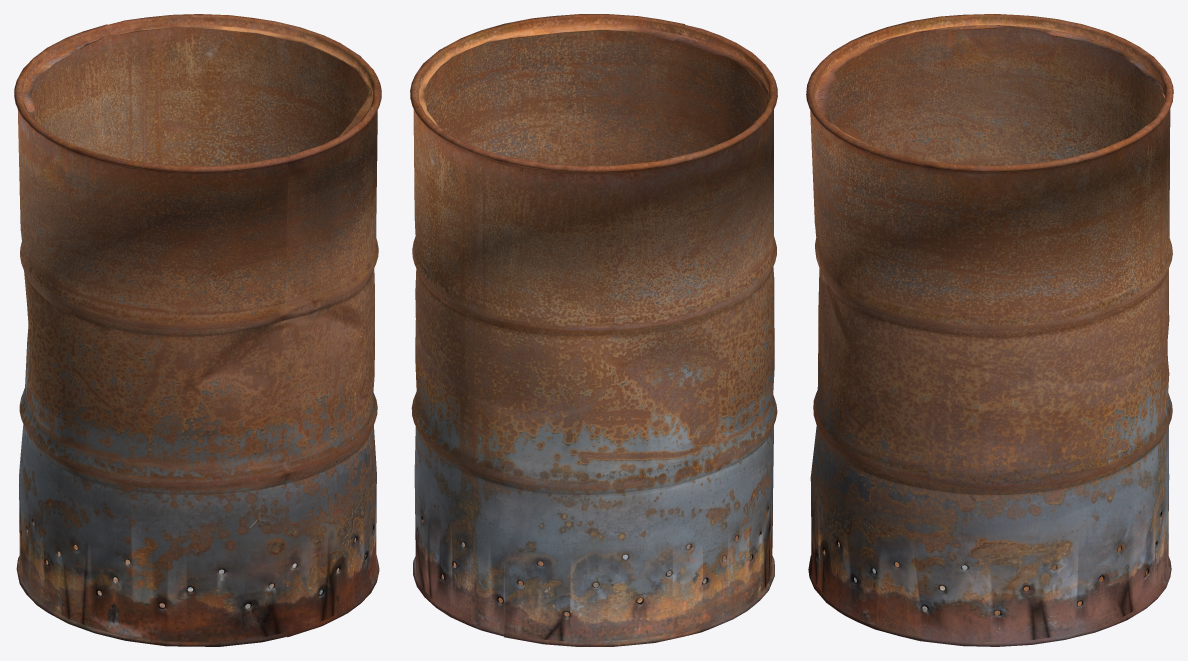
The model's file is barrel_stove.glb.
The picture shows the model from 3 angles, left to right: view 1: azimuth 30°, elevation 25°; view 2: azimuth 150°, elevation 25°; view 3: azimuth 270°, elevation 25°; orthographic projection.
Visible parts, largest first — view 1: barrel_stove; view 2: barrel_stove; view 3: barrel_stove.
Boxes of the visible parts, x1,y1,x2,y2 form: barrel_stove: (14, 14, 381, 646); barrel_stove: (410, 14, 777, 646); barrel_stove: (806, 14, 1173, 646).
Size of the model in its own units: 0.5931 by 0.857 by 0.593.
1 material, 1 textured.
